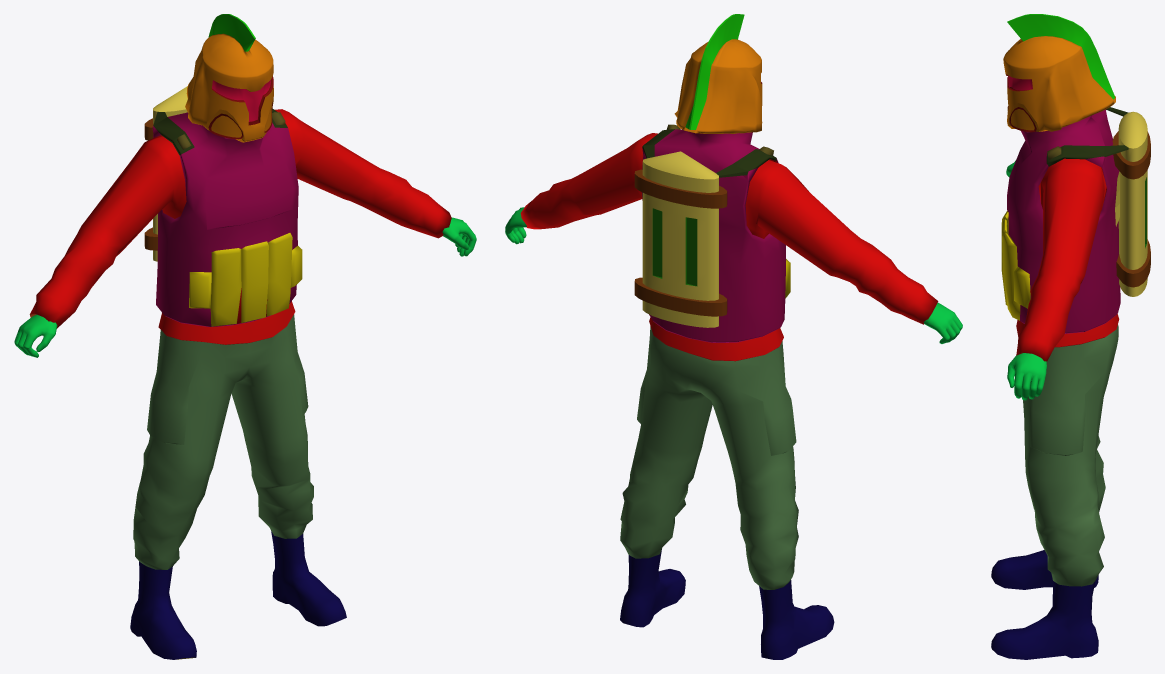
The model's file is Soldier_Painted_Fixed_test.fbx.
3 renders of one model, left to right at view 1: azimuth 30°, elevation 25°; view 2: azimuth 150°, elevation 25°; view 3: azimuth 270°, elevation 25°, orthographic.
Parts seen in each view (by area): view 1: Soldier; view 2: Soldier; view 3: Soldier.
Boxes of the visible parts, <box> form: Soldier: <box>14,14,476,659</box>; Soldier: <box>505,14,962,659</box>; Soldier: <box>991,14,1150,659</box>.
Size of the model in its own units: 146 by 188 by 44.92.
